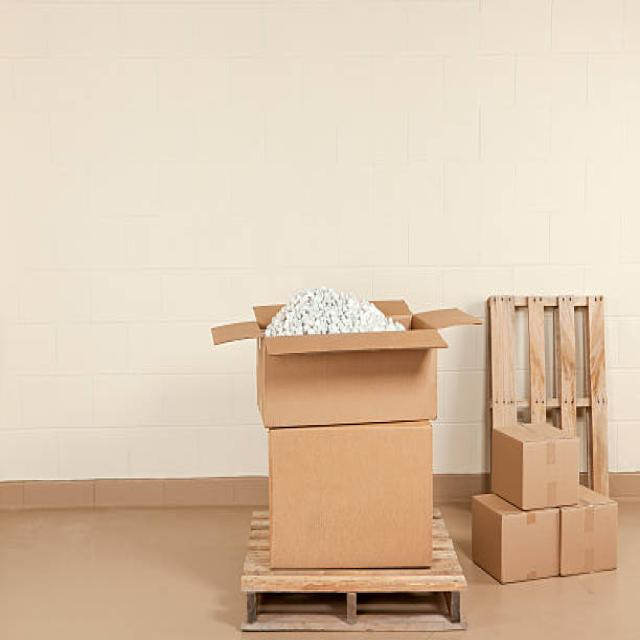Wooden-Pallets: (488, 298, 606, 429), (242, 574, 466, 632)
